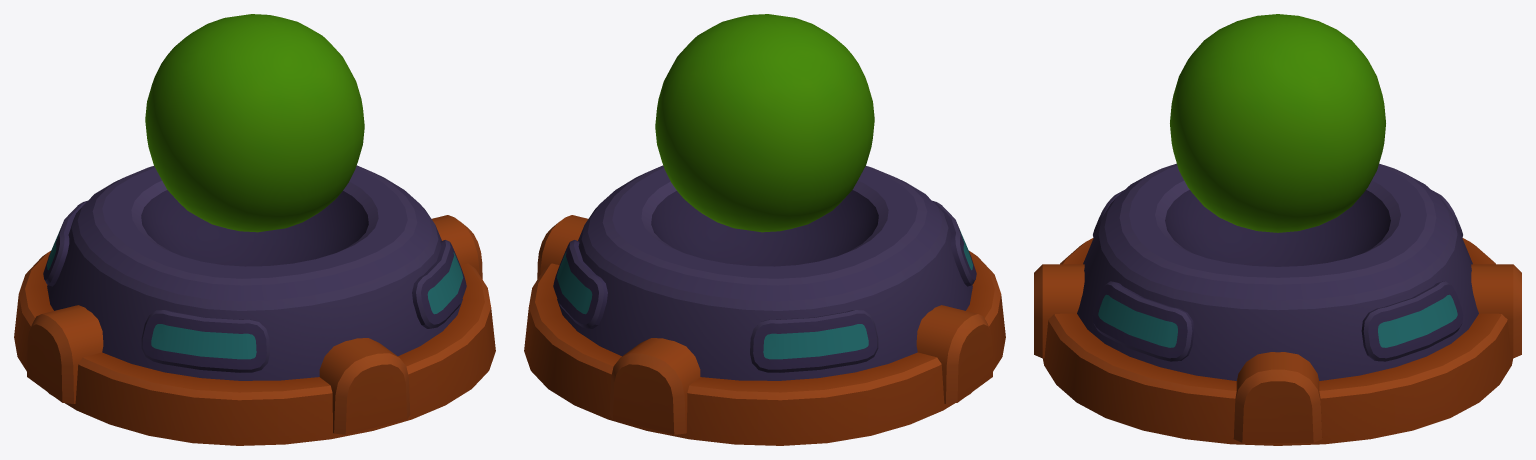
File: Ufo_MainStand.fbx
3 views of the same model, side by side, from view 1: azimuth 30°, elevation 25°; view 2: azimuth 150°, elevation 25°; view 3: azimuth 270°, elevation 25° (orthographic).
Visible parts, largest first — view 1: Ufo_MainStand; view 2: Ufo_MainStand; view 3: Ufo_MainStand.
Boxes of the visible parts, x1,y1,x2,y2 form: Ufo_MainStand: [14, 14, 495, 445]; Ufo_MainStand: [524, 14, 1005, 445]; Ufo_MainStand: [1034, 14, 1521, 445].
Bounding box in the file's own units: 1.24 × 0.8972 × 1.24.
